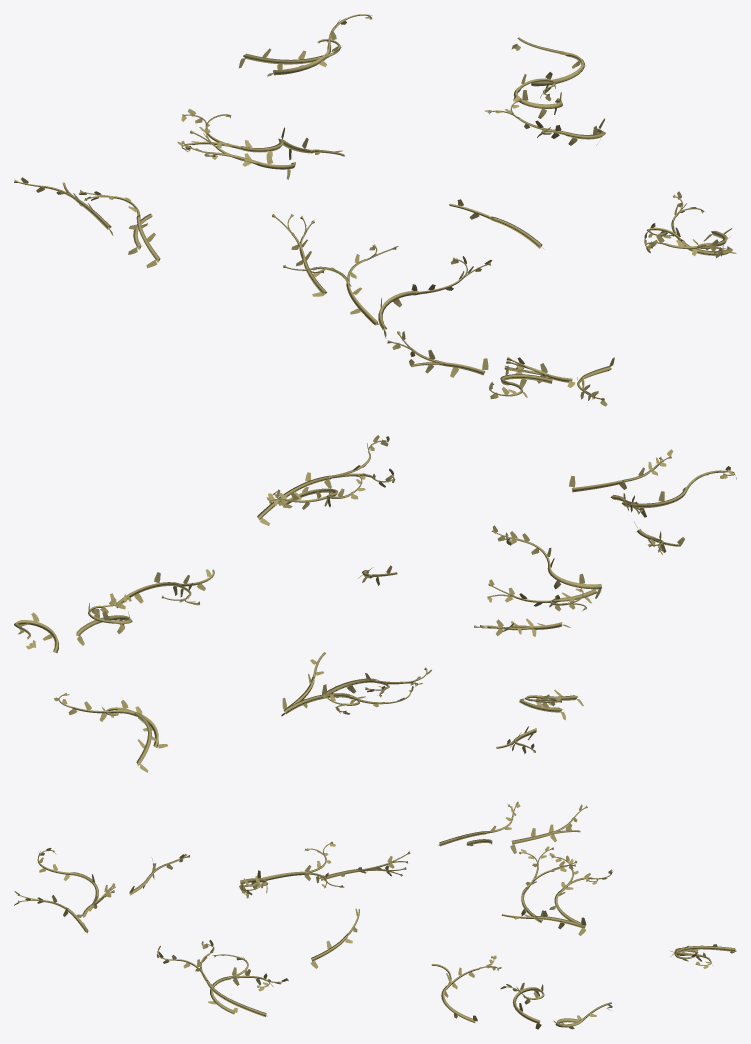
The model's file is cipo 2.fbx.
3 renders of one model, top to bottom at view 1: azimuth 30°, elevation 25°; view 2: azimuth 150°, elevation 25°; view 3: azimuth 270°, elevation 25°, orthographic. The views are drawn at different scales.
Size of the model in its own units: 384 by 44.11 by 546.
